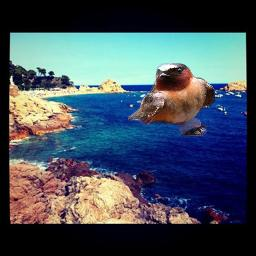Swallow: (128, 63, 215, 136)
